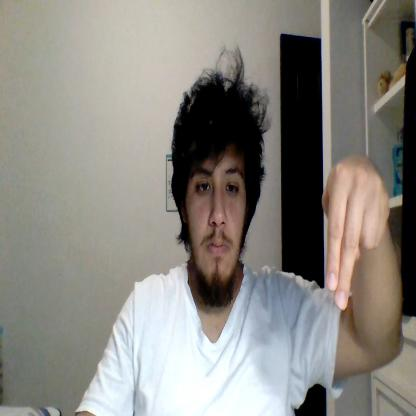N: (322, 155, 390, 310)
